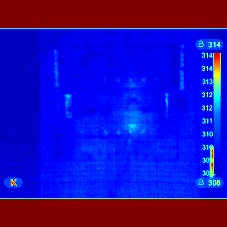Medium: (194, 143, 225, 189)
